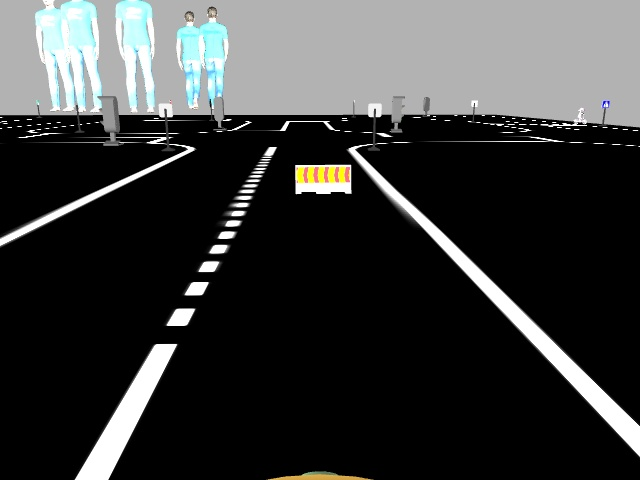ClosedRoadStand: (294, 163, 351, 192)
